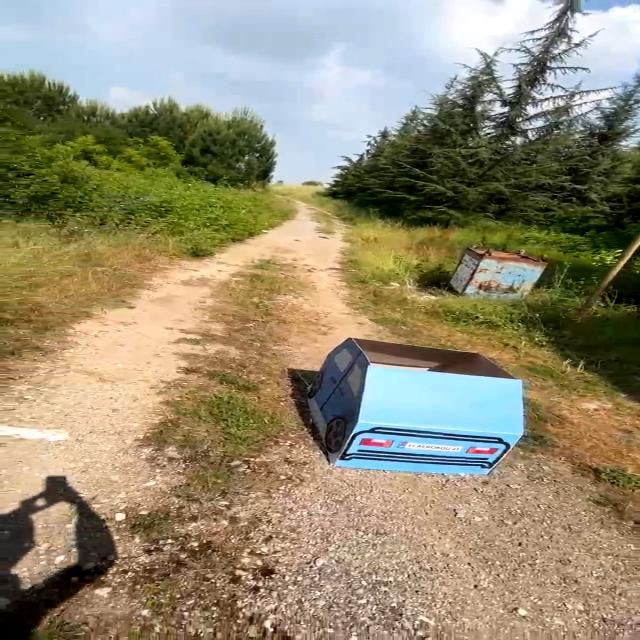blue_car: (293, 334, 545, 491)
